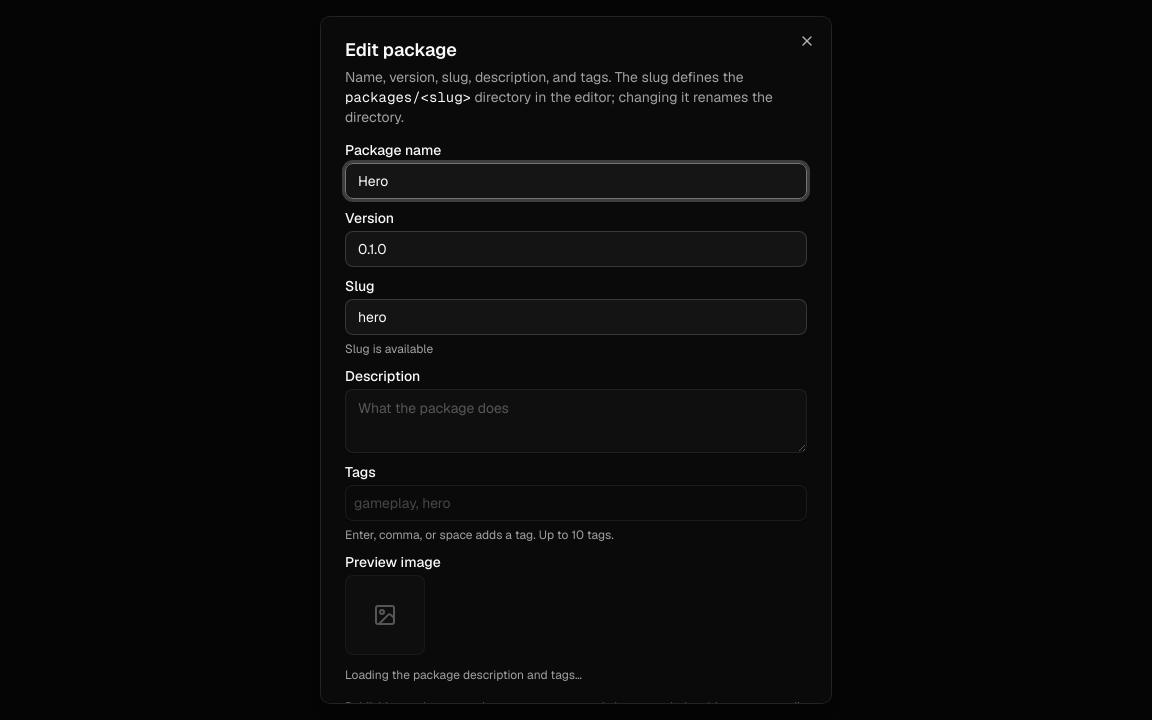
it: PackageEditDialog › drops the warning when the slug is edited again
Replace the text in the field labelled "Slug" with "hero_two": (576,317) [345, 299, 807, 335]
(page scrolled)
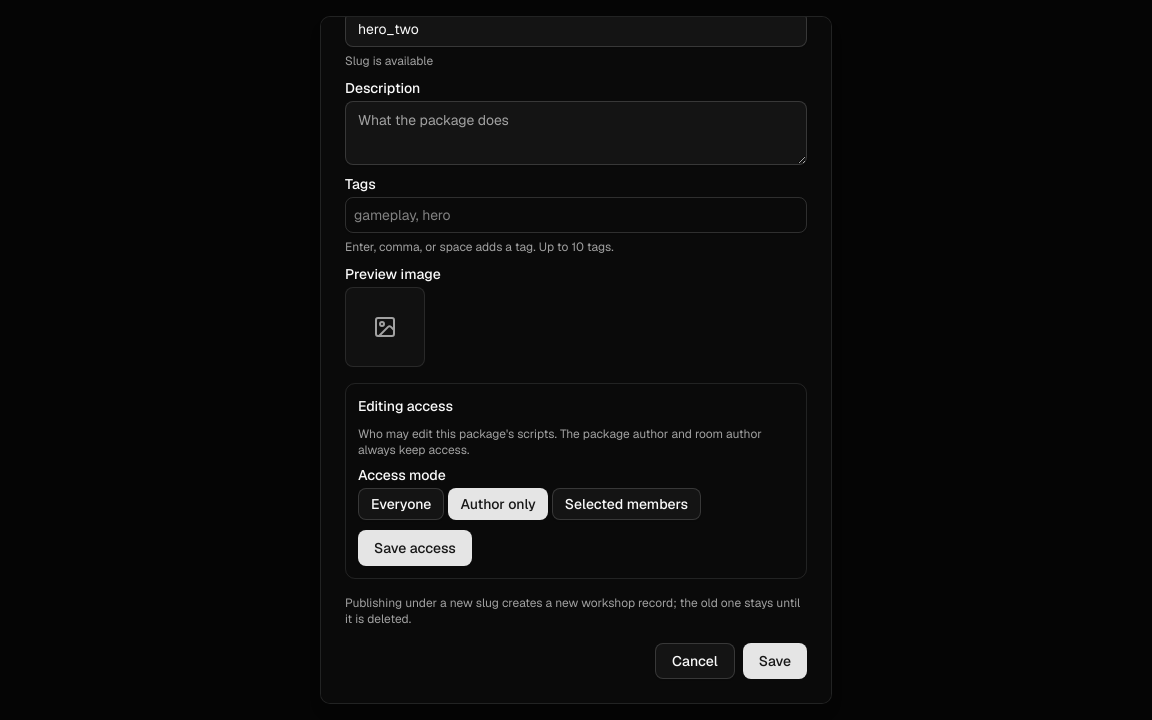
Now the button "Save" is enabled
Click the button "Save": (775,661) [743, 643, 807, 679]
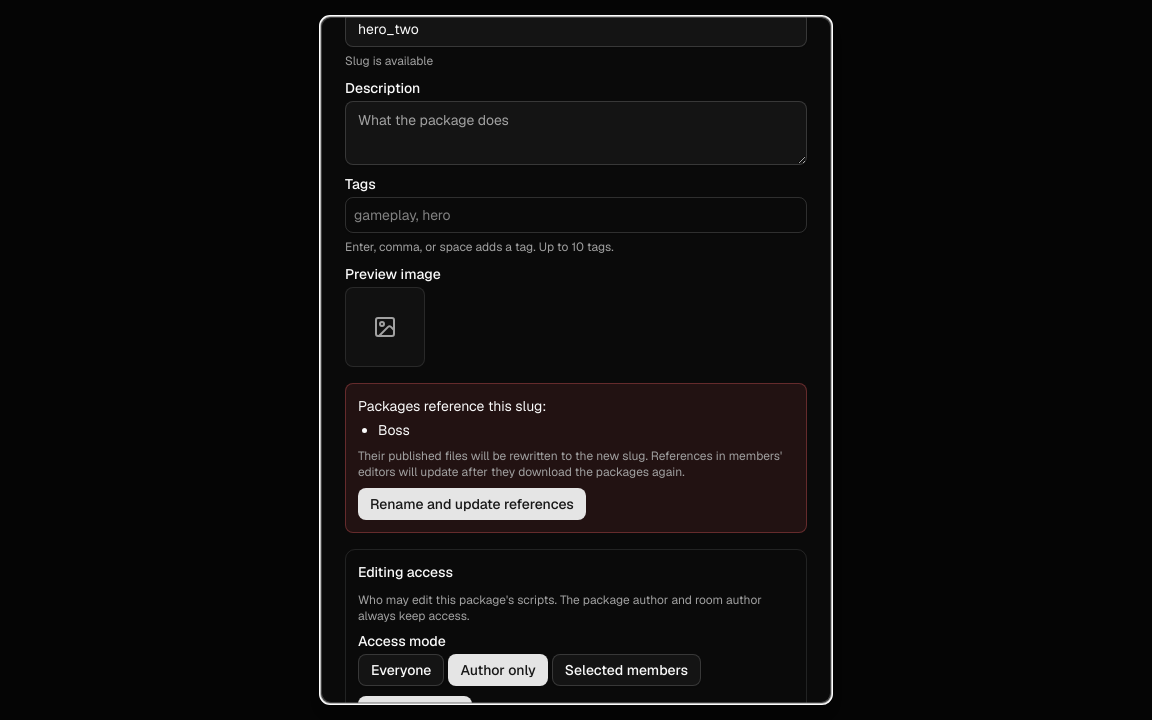
Now the list item "Boss" is shown, box [378, 421, 410, 439]
Replace the text in the field labelled "Slug" with "hero_three": (576,29) [345, 11, 807, 47]
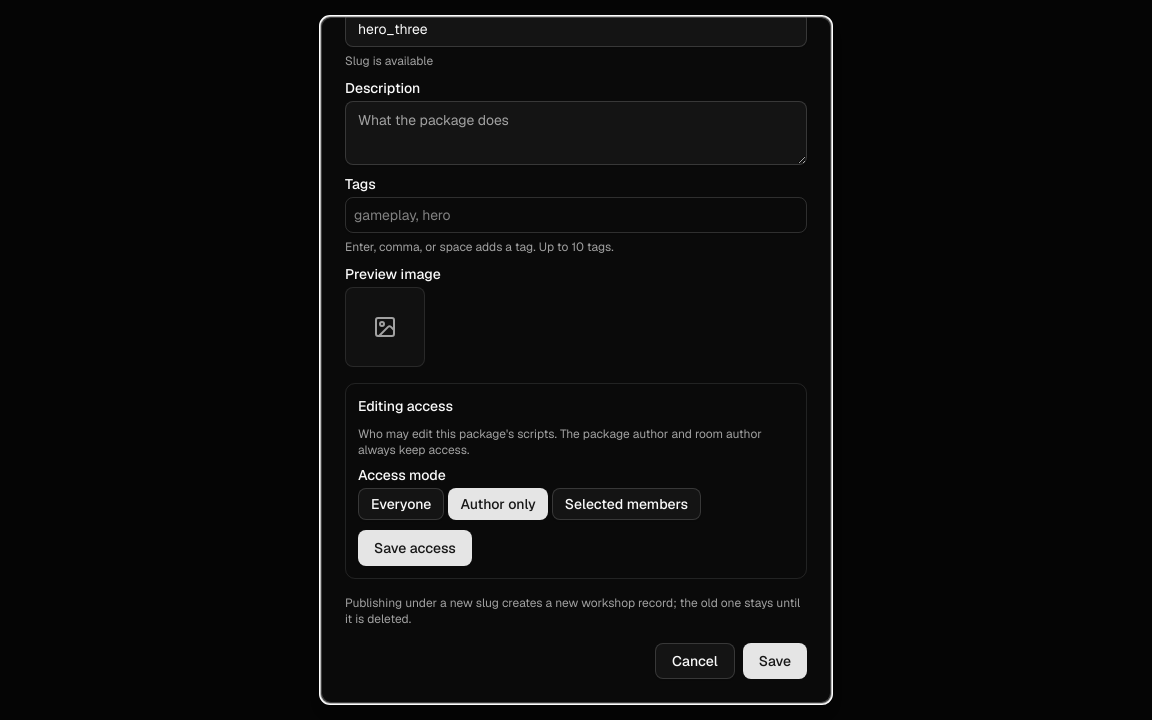
Now the list item "Boss" is gone
Now the button "Save" is enabled, box [743, 643, 807, 679]
